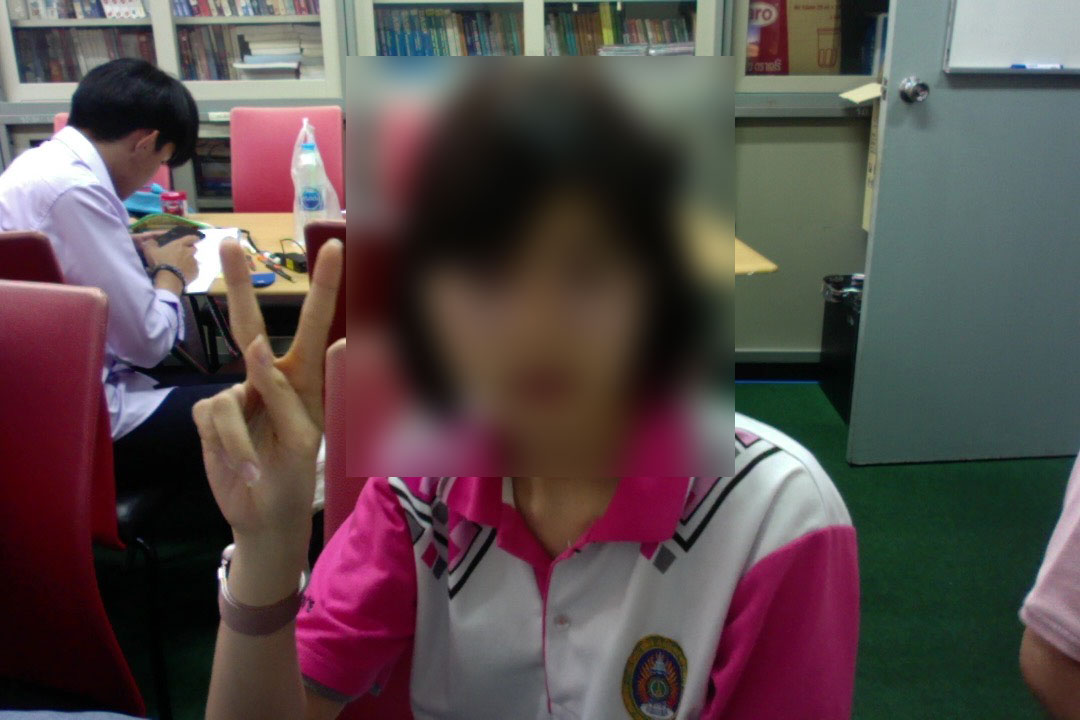ko: (187, 221, 362, 568)
